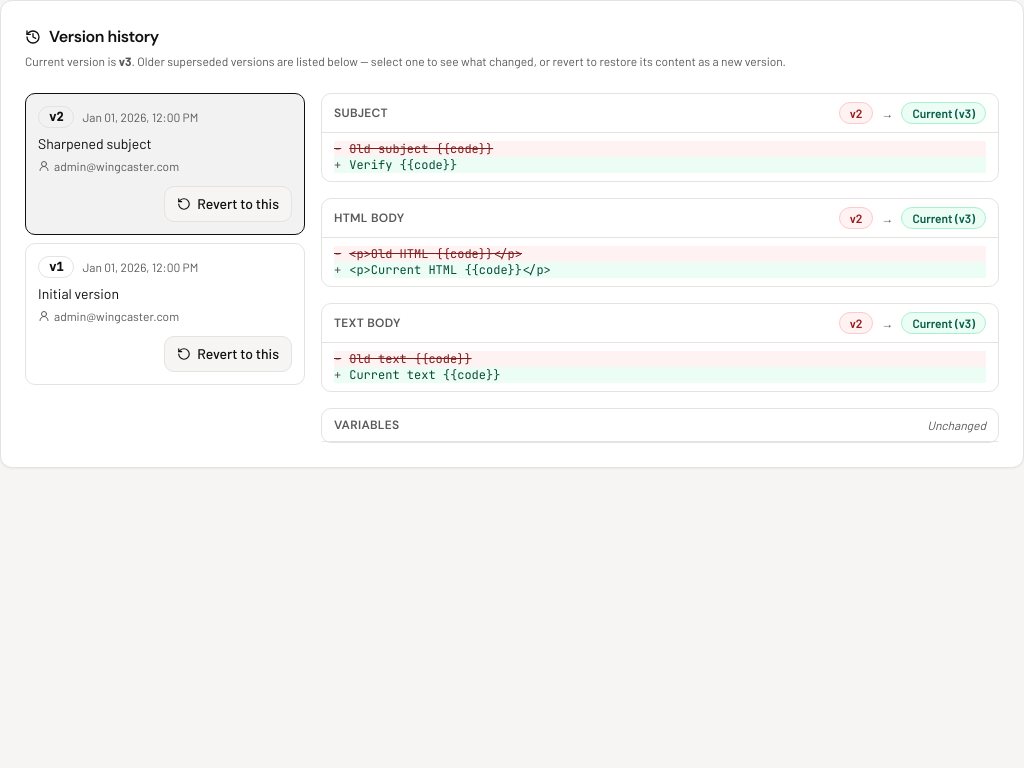
Test: revert flow › closes silently if the user cancels the step-up (runElevated returns null)
What coordinates should you click on to do the following:
click the button with aria-label "revert to version 2"
I would click on:
 (228, 204)
Its box is [164,186,292,222].
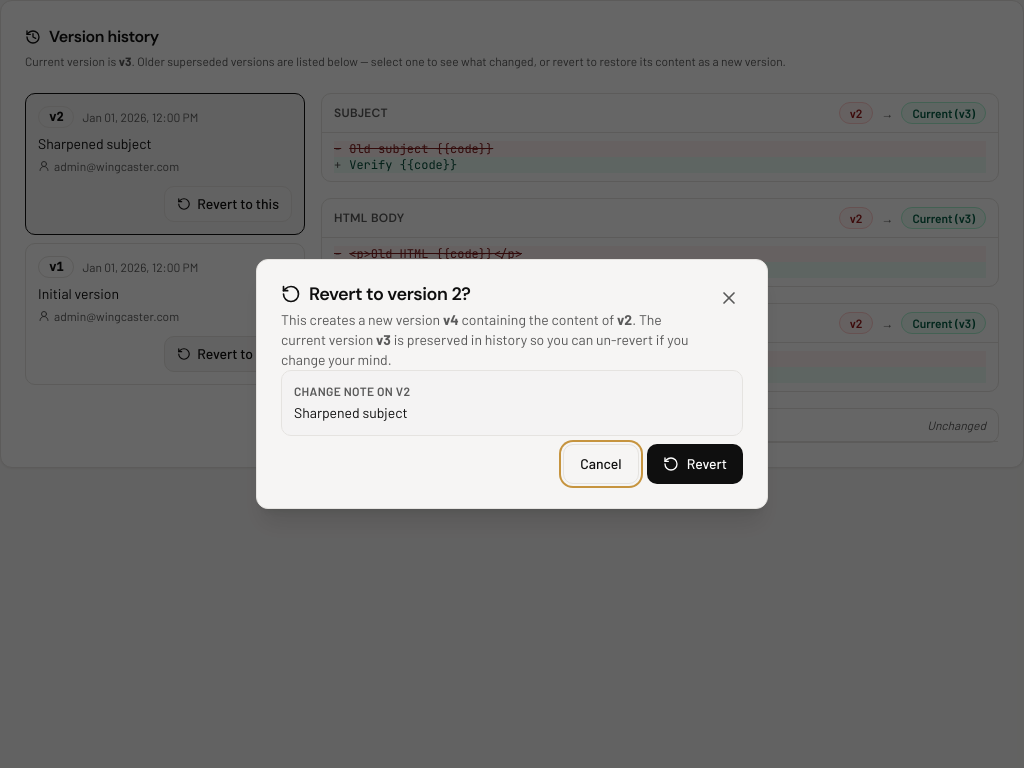
What coordinates should you click on to do the following:
click the button "Revert"
I would click on:
 (695, 464)
Its box is [647,444,743,484].
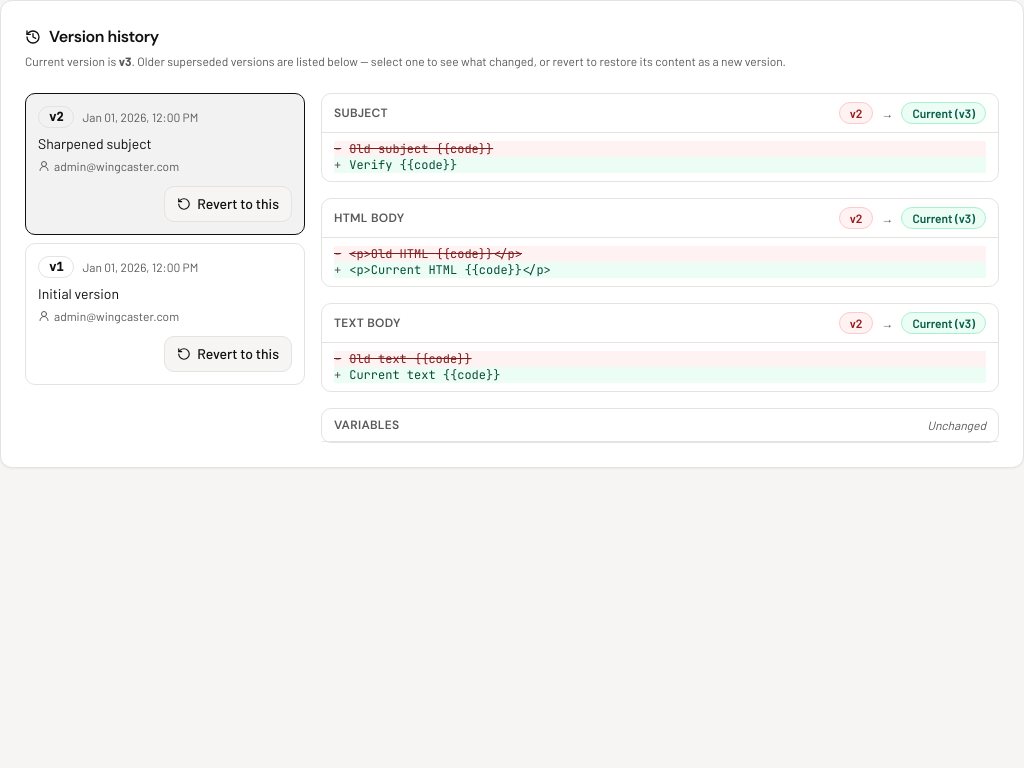
Result: the dialog is gone
